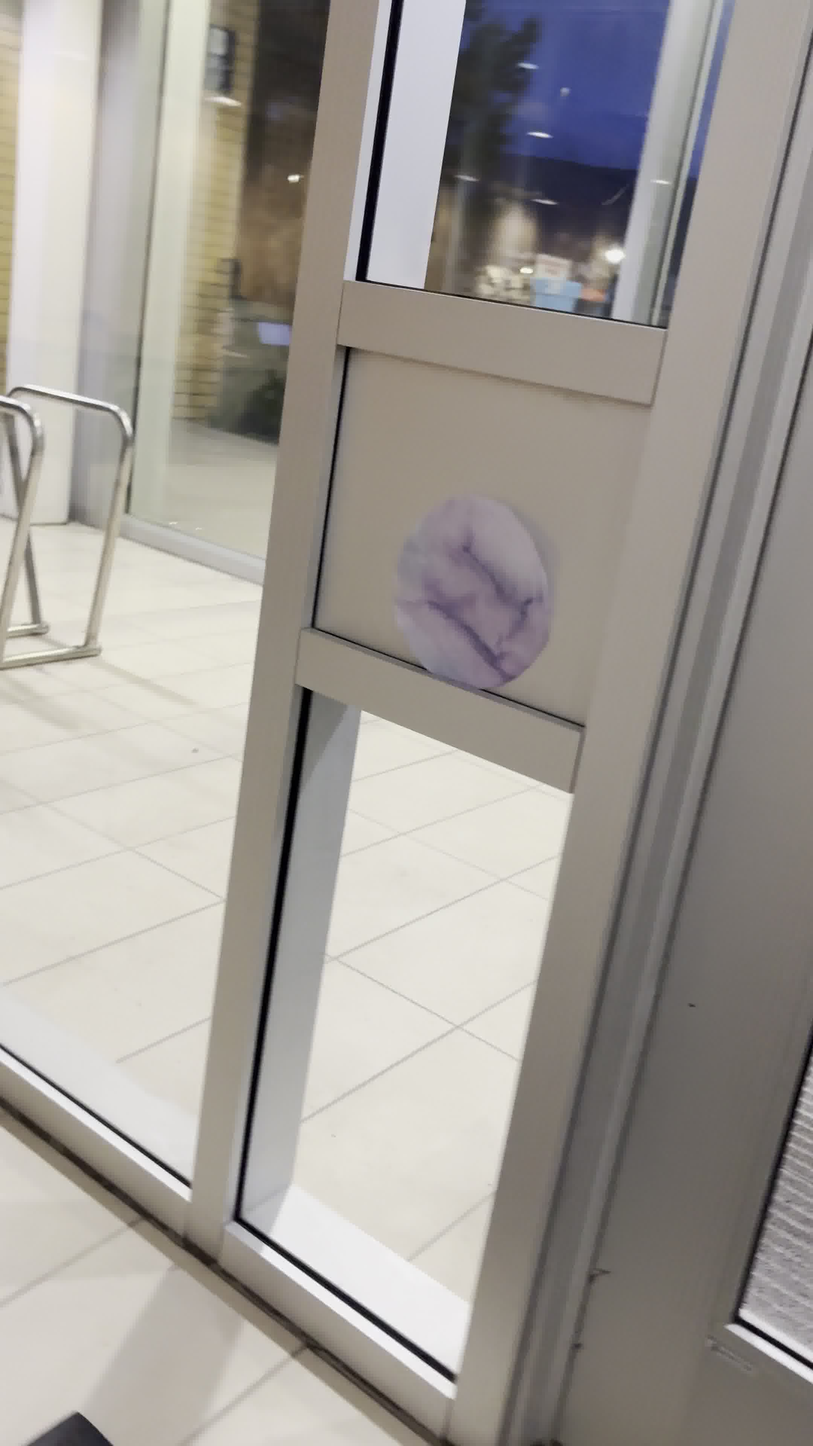Target: (389, 492, 554, 693)
